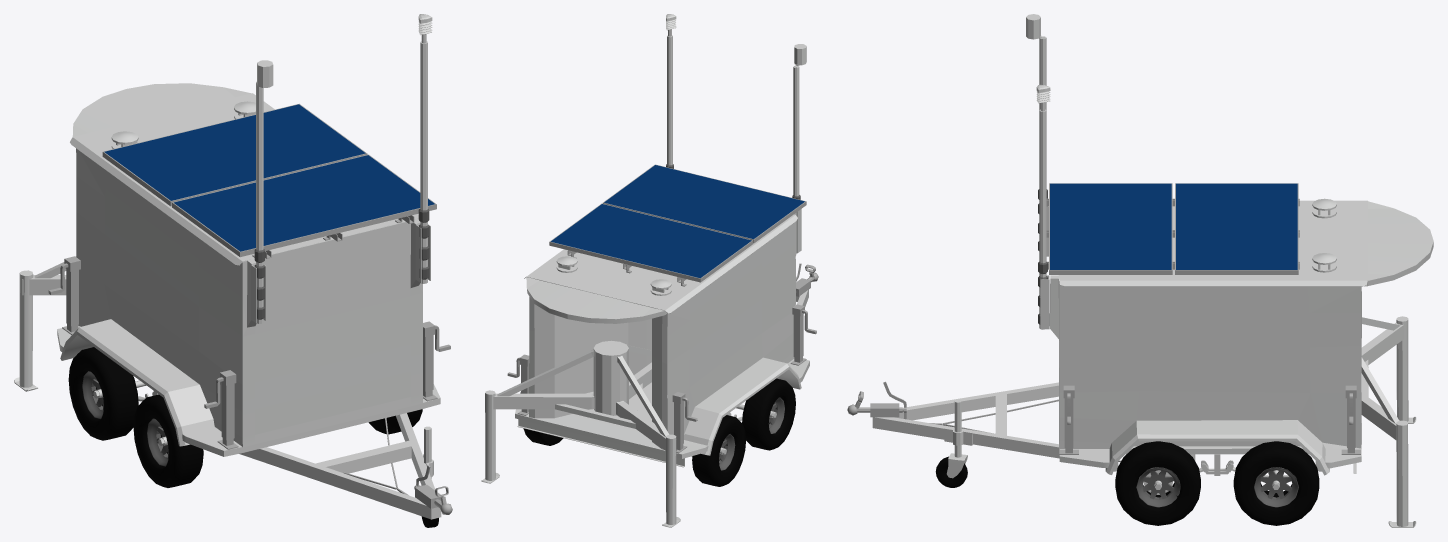
The model's file is Sentry.fbx.
The picture shows the model from 3 angles, left to right: view 1: azimuth 30°, elevation 25°; view 2: azimuth 150°, elevation 25°; view 3: azimuth 270°, elevation 25°; orthographic projection. The views are drawn at different scales.
Visible parts, largest first — view 1: sentri_01:polySurface3, polySurface20, pCube9, pCylinder8, pCube22, sentri_01:pCylinder3, sentri_01:pCylinder4, pCylinder2, sentri_01:LP_Trailer812, sentri_01:pCylinder5, pCylinder9; view 2: sentri_01:polySurface3, polySurface20, pCylinder2, pCube9, sentri_01:pCylinder4, pCylinder8, pCube22, sentri_01:pCylinder3, sentri_01:LP_Trailer812; view 3: sentri_01:polySurface3, polySurface20, pCube9, pCylinder2, sentri_01:pCylinder6, sentri_01:pCylinder5, pCylinder8, pCube22, sentri_01:LP_Trailer812, pCylinder9.
Boxes of the visible parts, bbox=[...] form: sentri_01:polySurface3: bbox=[60, 83, 422, 447]; polySurface20: bbox=[70, 93, 436, 265]; pCube9: bbox=[57, 326, 441, 519]; pCylinder8: bbox=[251, 14, 432, 323]; pCube22: bbox=[48, 256, 452, 514]; sentri_01:pCylinder3: bbox=[68, 347, 138, 440]; sentri_01:pCylinder4: bbox=[133, 394, 203, 487]; pCylinder2: bbox=[14, 256, 76, 391]; sentri_01:LP_Trailer812: bbox=[82, 371, 168, 466]; sentri_01:pCylinder5: bbox=[368, 409, 422, 434]; pCylinder9: bbox=[420, 426, 438, 527]; sentri_01:polySurface3: bbox=[520, 212, 801, 455]; polySurface20: bbox=[524, 164, 806, 313]; pCylinder2: bbox=[481, 340, 680, 527]; pCube9: bbox=[515, 290, 809, 467]; sentri_01:pCylinder4: bbox=[742, 378, 795, 450]; pCylinder8: bbox=[666, 14, 806, 253]; pCube22: bbox=[507, 263, 818, 453]; sentri_01:pCylinder3: bbox=[692, 415, 745, 486]; sentri_01:LP_Trailer812: bbox=[719, 397, 784, 470]; sentri_01:polySurface3: bbox=[1049, 201, 1433, 475]; polySurface20: bbox=[1046, 183, 1367, 286]; pCube9: bbox=[872, 382, 1361, 476]; pCylinder2: bbox=[1190, 316, 1416, 527]; sentri_01:pCylinder6: bbox=[1233, 441, 1319, 525]; sentri_01:pCylinder5: bbox=[1115, 441, 1200, 525]; pCylinder8: bbox=[1026, 14, 1050, 329]; pCube22: bbox=[847, 381, 1360, 462]; sentri_01:LP_Trailer812: bbox=[1136, 467, 1298, 507]; pCylinder9: bbox=[935, 399, 972, 487].
Bounding box in the file's own units: 201 × 359 × 449.
